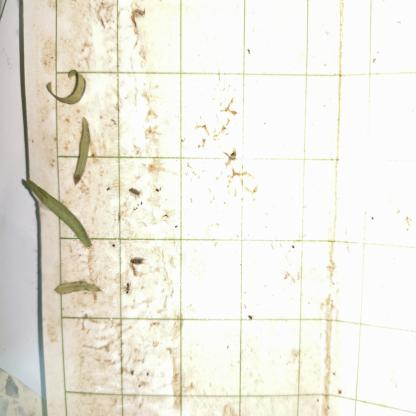prays_oleae: (124, 184, 146, 208), (127, 249, 150, 269), (120, 275, 136, 301)
